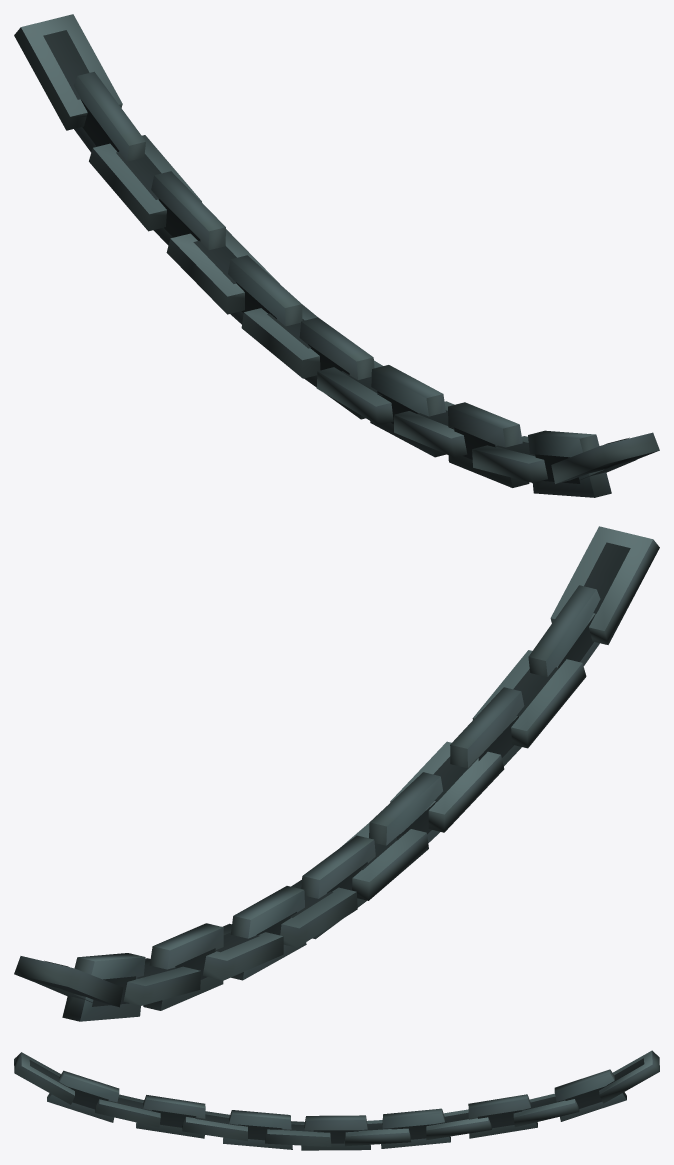
File: Metal_Pole_Chain_1B.fbx
The picture shows the model from 3 angles, top to bottom: view 1: azimuth 30°, elevation 25°; view 2: azimuth 150°, elevation 25°; view 3: azimuth 270°, elevation 25°; orthographic projection. The views are drawn at different scales.
Parts seen in each view (by area): view 1: Metal_Pole_Chain_1B; view 2: Metal_Pole_Chain_1B; view 3: Metal_Pole_Chain_1B.
Part boxes in pixels (x1,y1,x2,y2): Metal_Pole_Chain_1B: (14, 14, 659, 497); Metal_Pole_Chain_1B: (14, 526, 659, 1021); Metal_Pole_Chain_1B: (14, 1050, 659, 1150).
Size of the model in its own units: 21.91 by 57.98 by 377.
